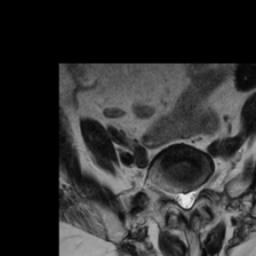CCS_stenosis: (182, 183, 189, 216)
LFS_stenosis: (196, 174, 204, 199)
LLS_normal: (189, 182, 197, 213)
RFS_normal: (166, 182, 174, 208)
RLS_normal: (174, 184, 182, 213)
